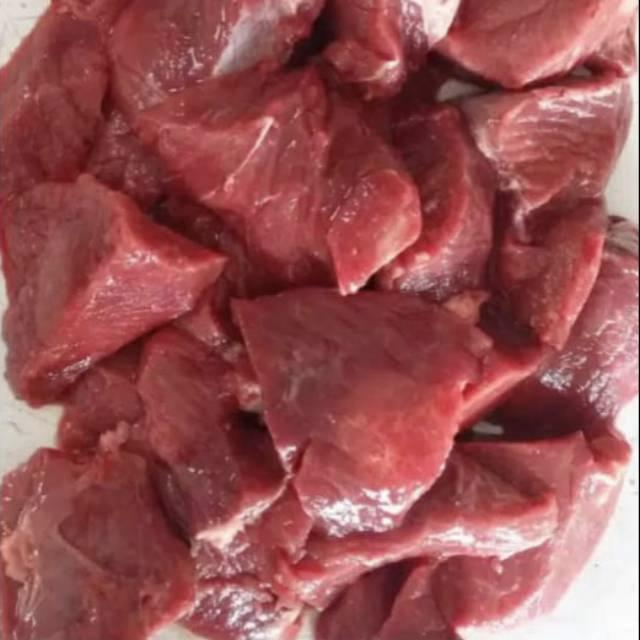beef: (142, 55, 437, 317), (228, 278, 506, 530), (0, 0, 255, 266), (0, 173, 233, 397), (410, 415, 632, 632), (0, 437, 234, 640), (439, 82, 631, 215), (420, 0, 635, 89)
